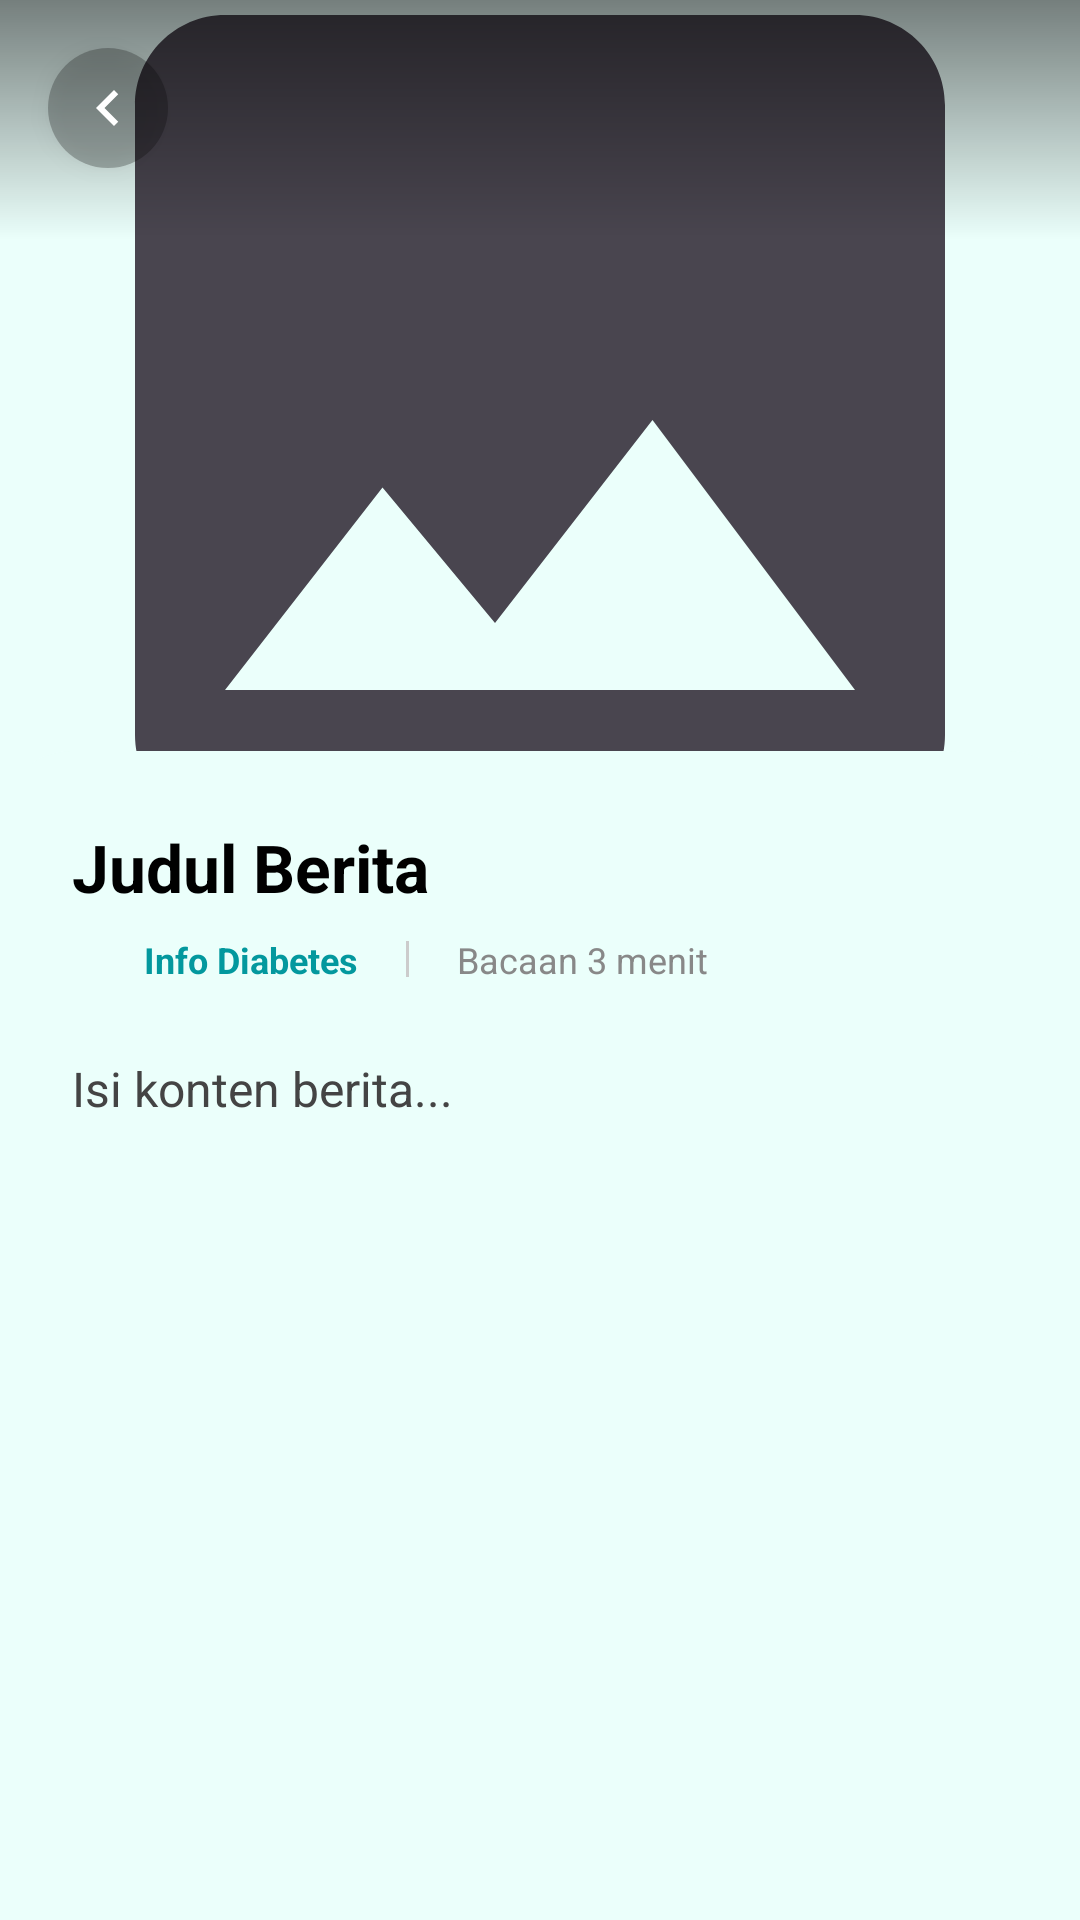

Icon click points for this 1080w x 1920h phone screenshot, format (x=x, y=y):
arrow left: (x=108, y=108)
